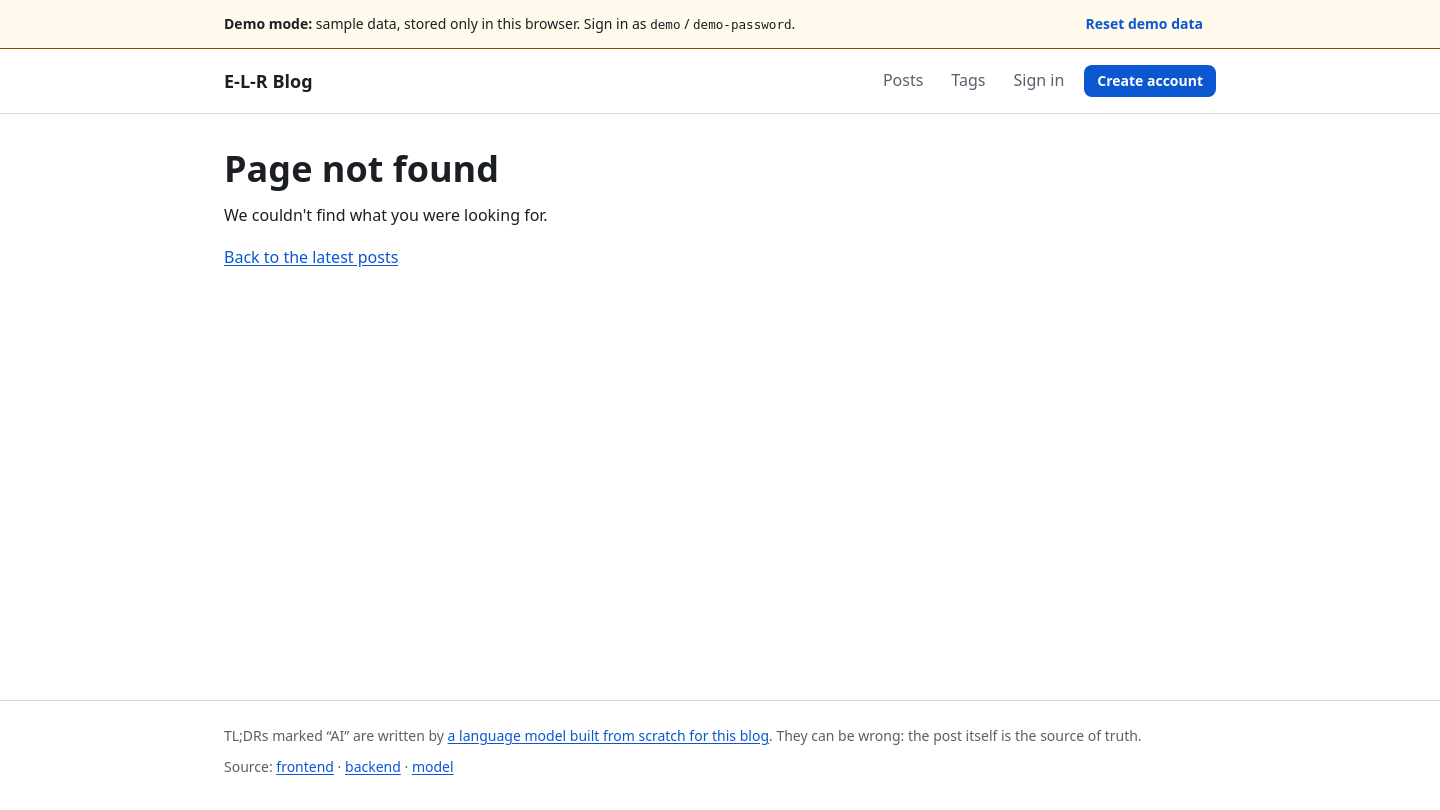
Test case: route errors › shows not found for unknown addresses
This screenshot has width=1440, height=810.
Expected: the heading "Page not found" is shown, [224, 144, 499, 193]
Click the link "Back to the latest posts".
click(311, 257)  # box [224, 246, 398, 268]
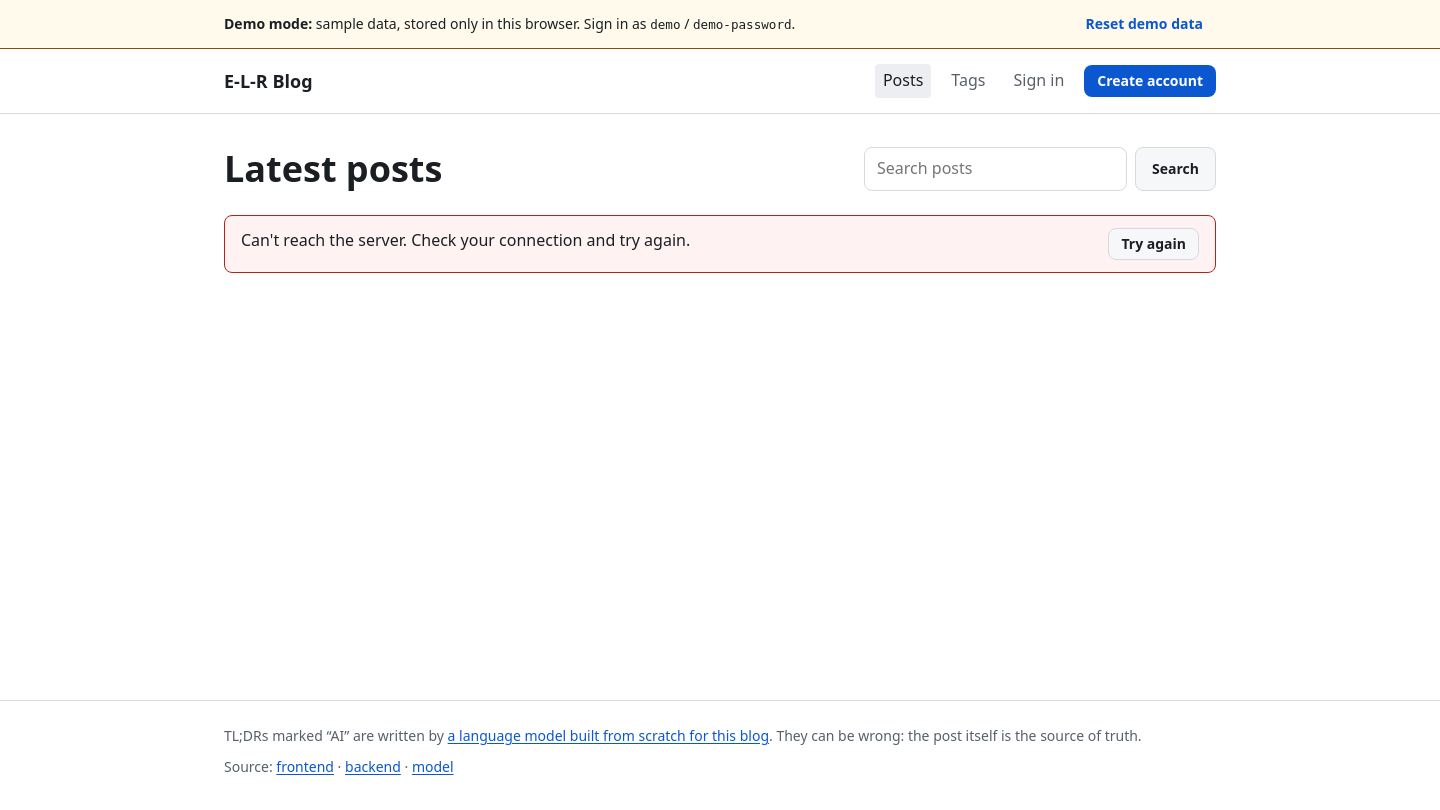
Expected: the heading "Latest posts" is shown, [224, 146, 442, 191]
